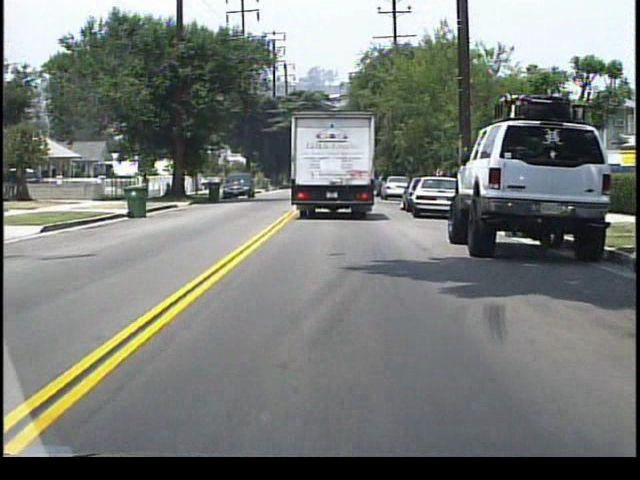person: (140, 171, 152, 199)
